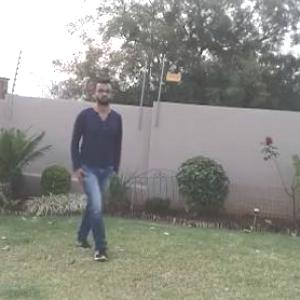follow: (71, 76, 122, 261)
